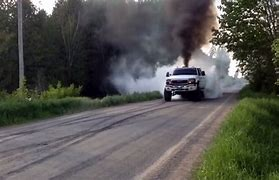smoke: (169, 1, 216, 66)
